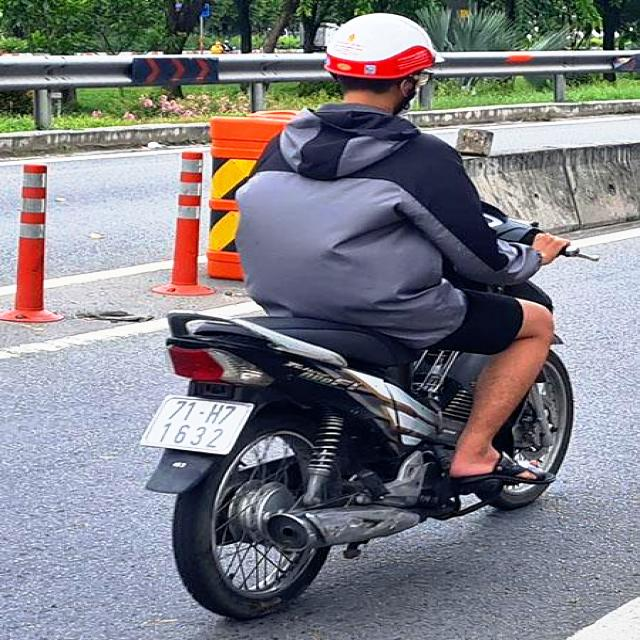license_plate: (135, 396, 256, 456)
